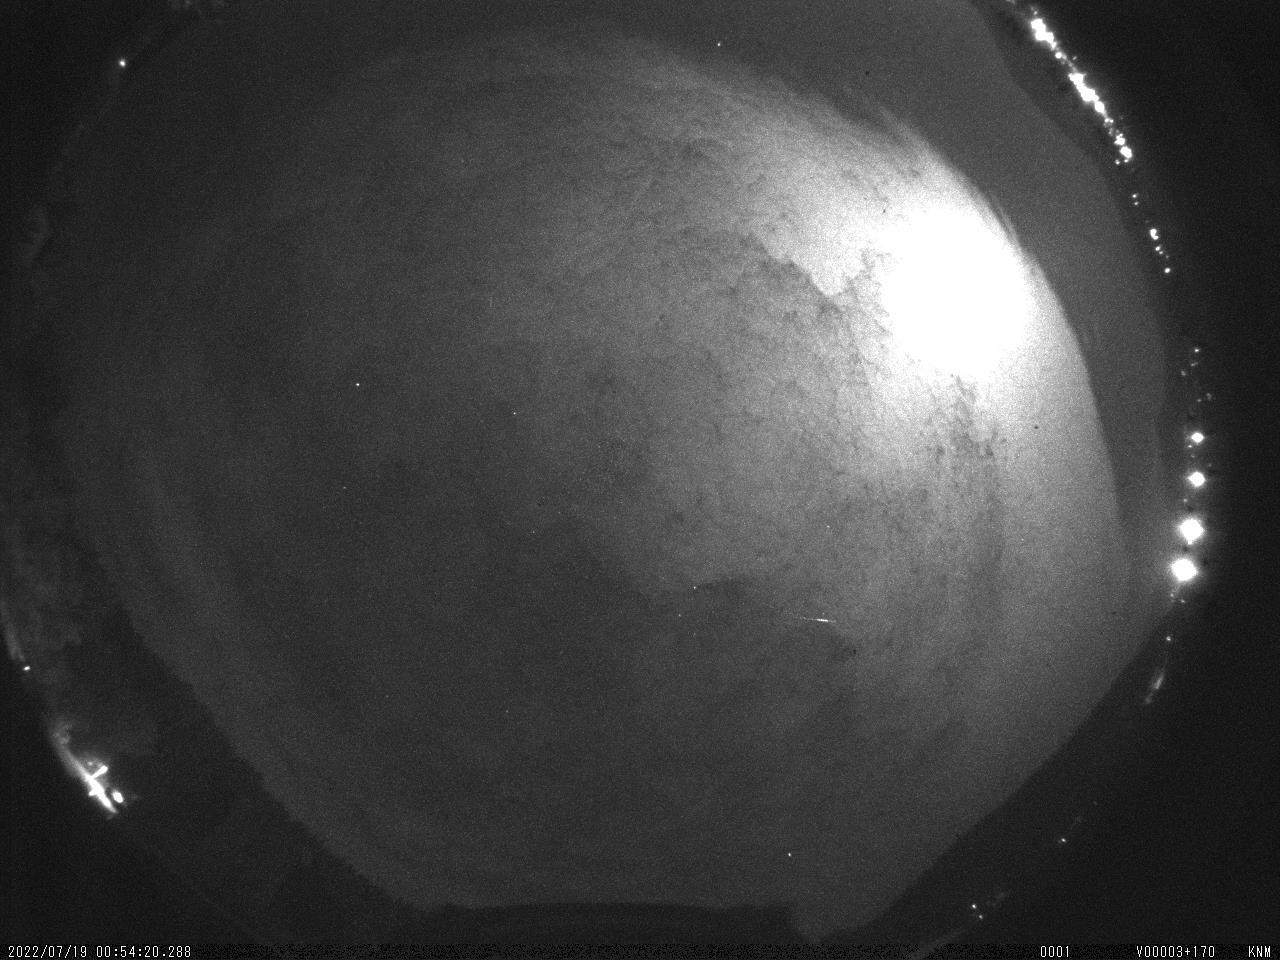Meteor: (796, 609, 840, 629)
